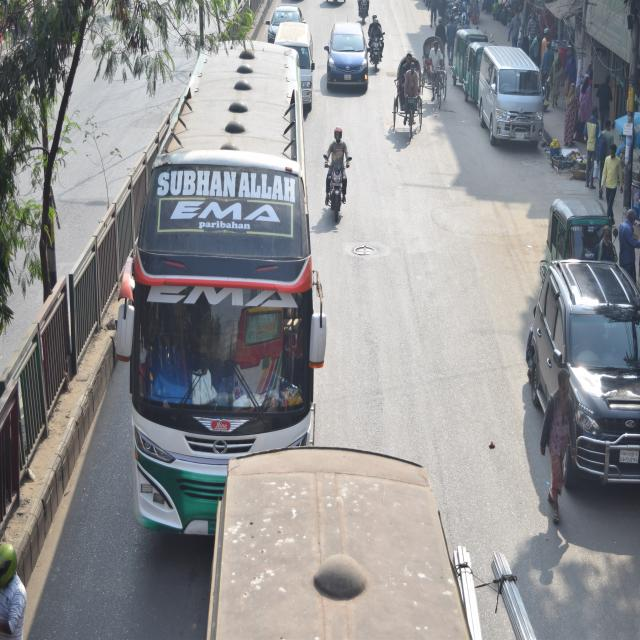bus: (126, 41, 313, 534), (179, 442, 508, 640)
car: (516, 251, 640, 487), (325, 15, 371, 99), (267, 2, 297, 37)
microbus: (477, 39, 546, 154), (271, 26, 318, 108)
motorbike: (314, 140, 354, 238), (367, 16, 385, 69)
